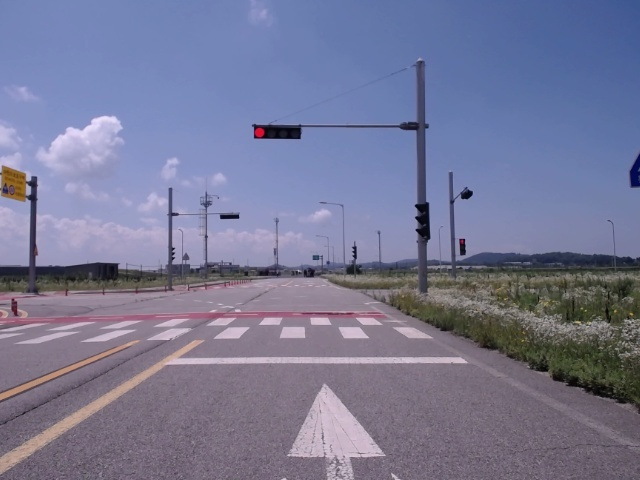red_4: (254, 126, 301, 139)
